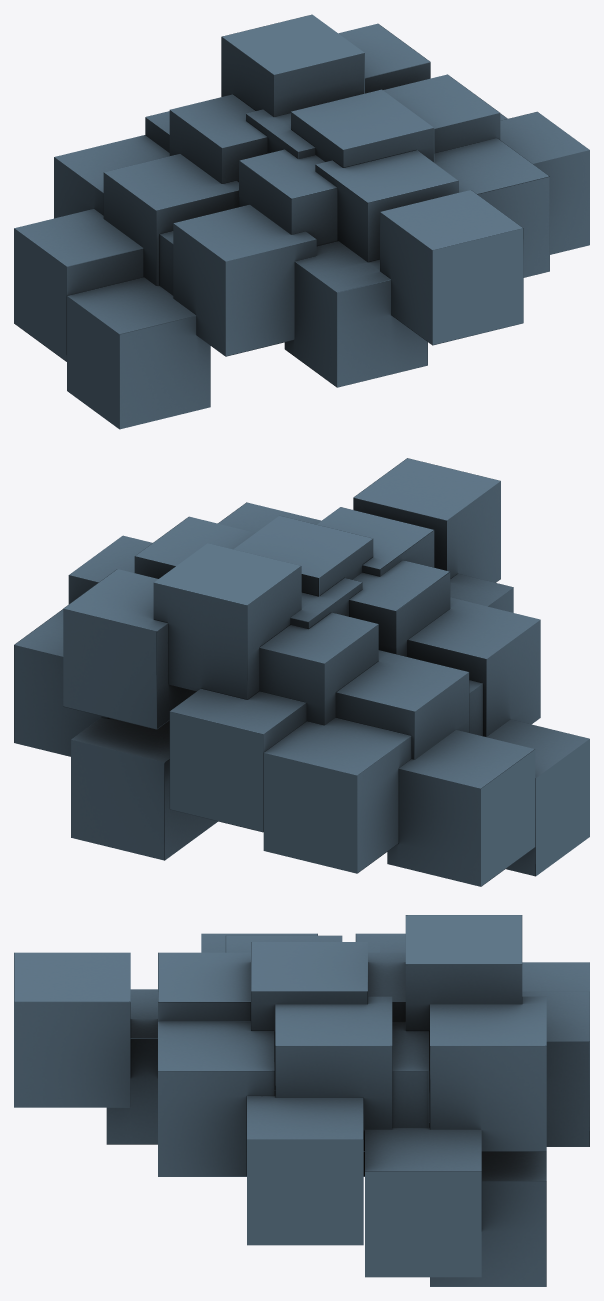
3 renders of one model, top to bottom at view 1: azimuth 30°, elevation 25°; view 2: azimuth 150°, elevation 25°; view 3: azimuth 270°, elevation 25°, orthographic. The views are drawn at different scales.
Parts seen in each view (by area): view 1: Cube.022; view 2: Cube.022; view 3: Cube.022.
Boxes of the visible parts, left/top/right/bottom form: Cube.022: left=14, top=14, right=589, bottom=429; Cube.022: left=14, top=458, right=589, bottom=886; Cube.022: left=14, top=915, right=589, bottom=1286.
Bounding box in the file's own units: 10.15 × 5.38 × 9.86.
1 material, 1 textured.
